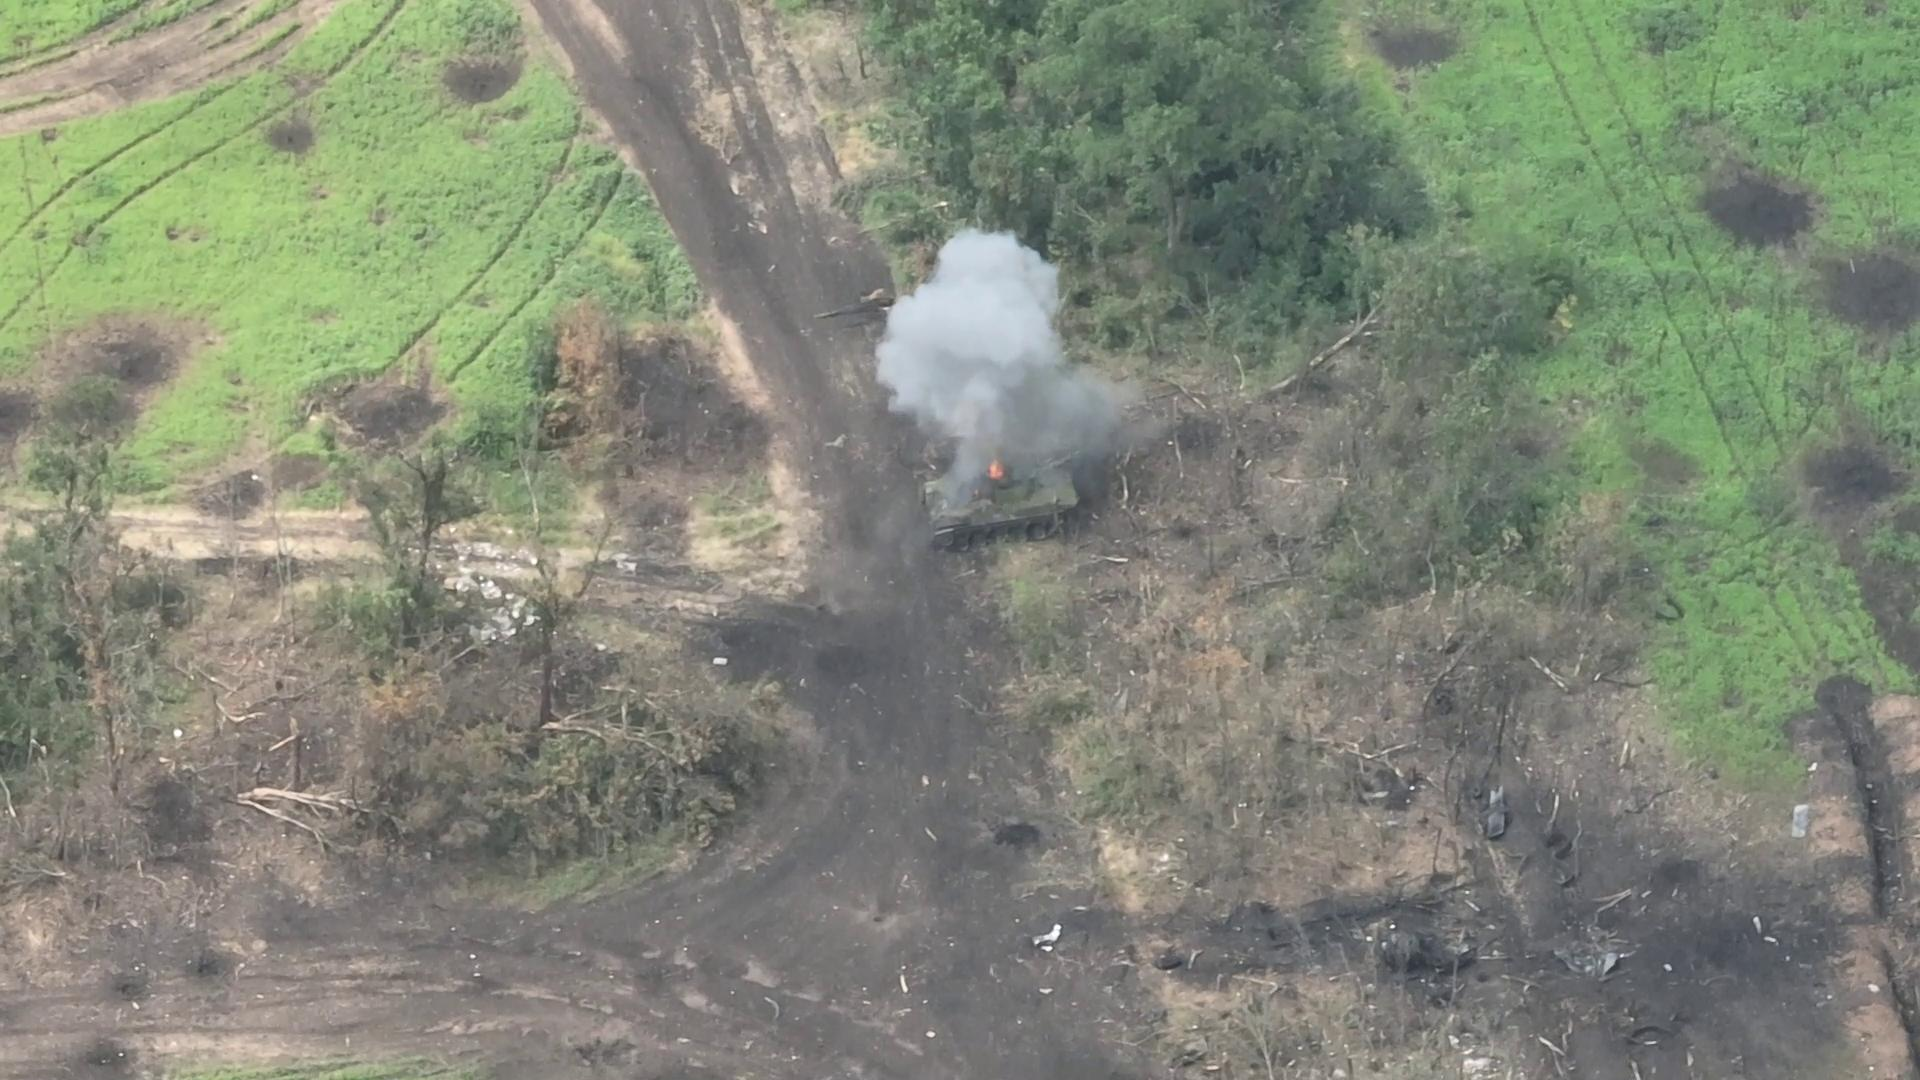tank: (919, 448, 1089, 555)
